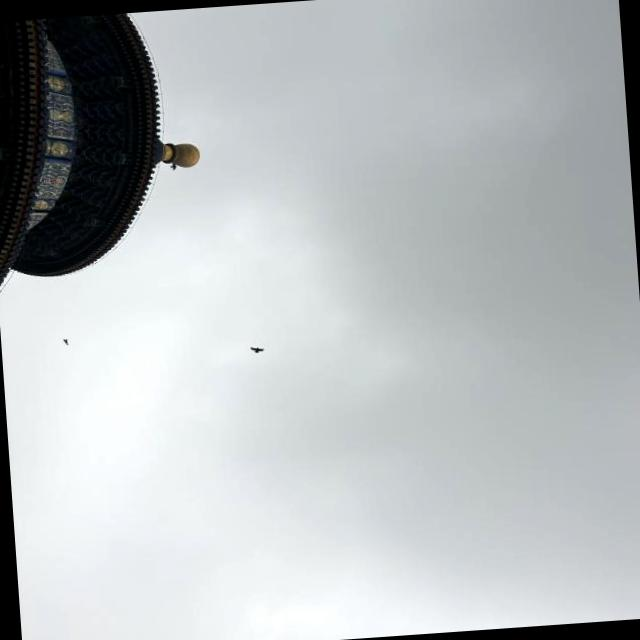bird: (245, 338, 270, 361)
